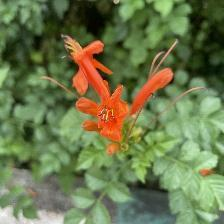honeysuckle: (58, 31, 118, 101)
